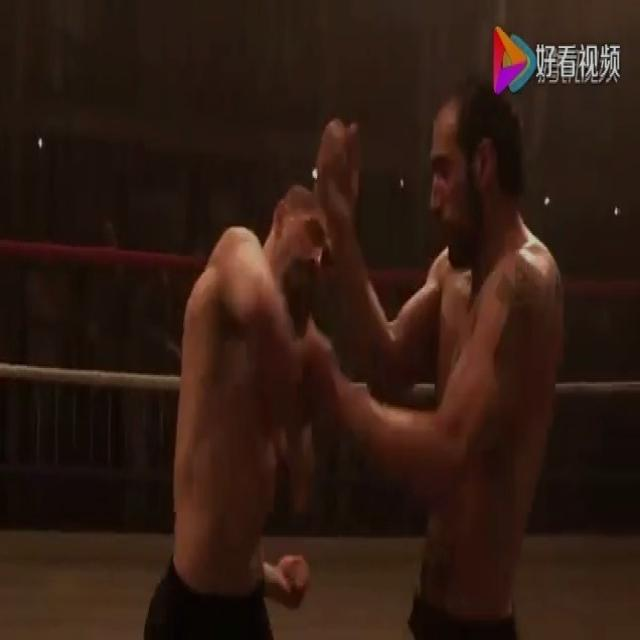fight: (159, 92, 566, 638)
